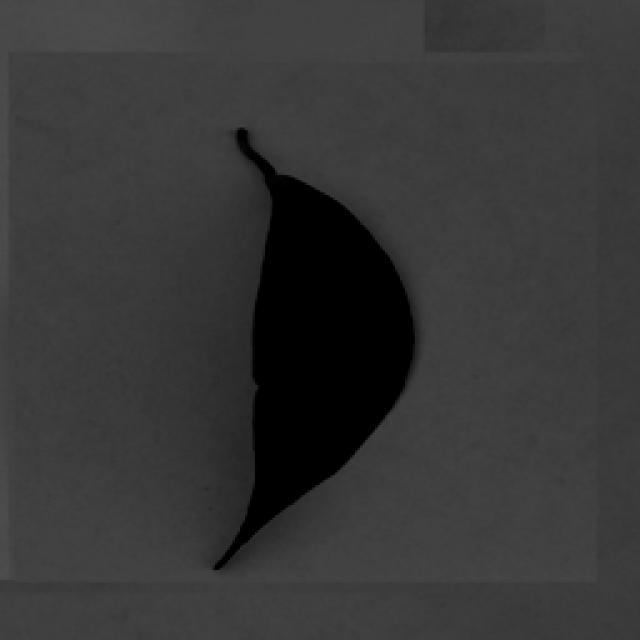greening: (122, 111, 434, 577)
